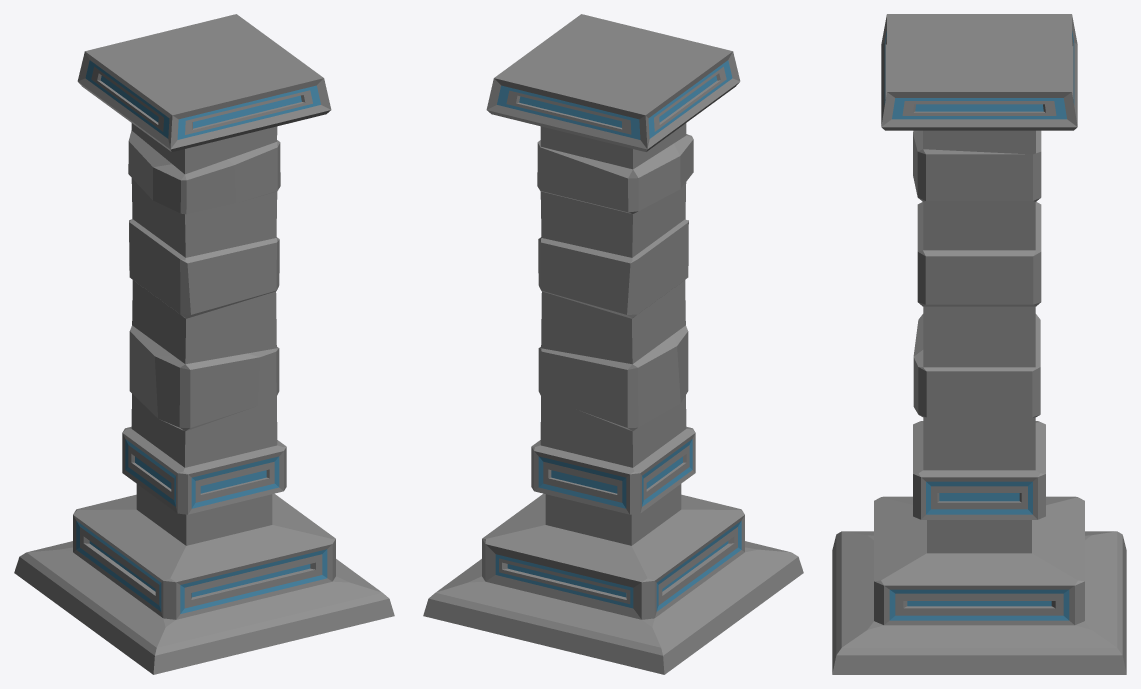
The model's file is block.fbx.
3 renders of one model, left to right at view 1: azimuth 30°, elevation 25°; view 2: azimuth 150°, elevation 25°; view 3: azimuth 270°, elevation 25°, orthographic. The views are drawn at different scales.
Visible parts, largest first — view 1: Cube.011; view 2: Cube.011; view 3: Cube.011.
Part boxes in pixels (x1,y1,x2,y2): Cube.011: (14,14,394,674); Cube.011: (423,14,803,674); Cube.011: (832,14,1126,674).
Bounding box in the file's own units: 159 × 334 × 159.
